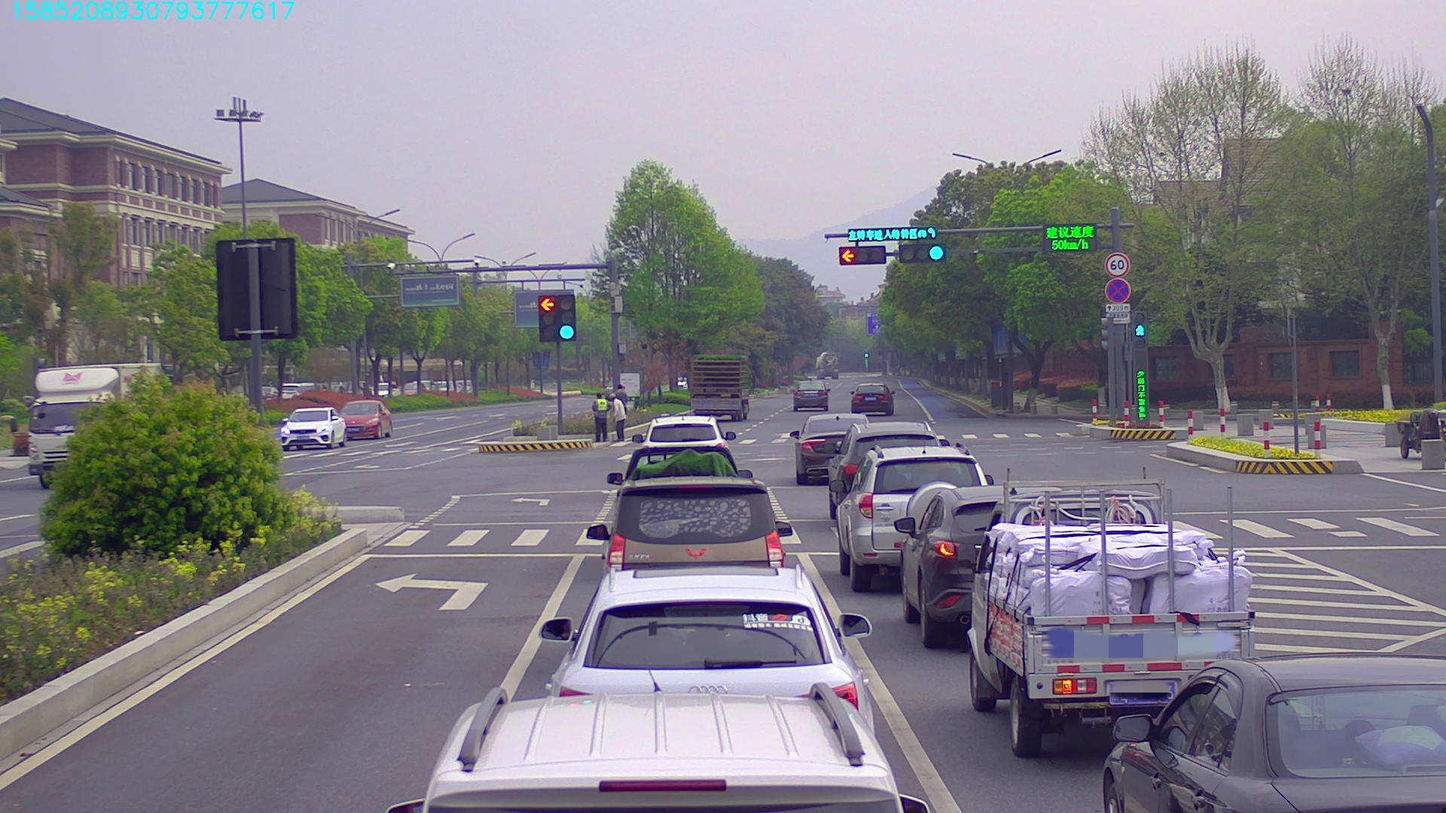green: (900, 246, 950, 266)
red: (840, 246, 879, 262)
wait_on: (848, 226, 937, 238)
